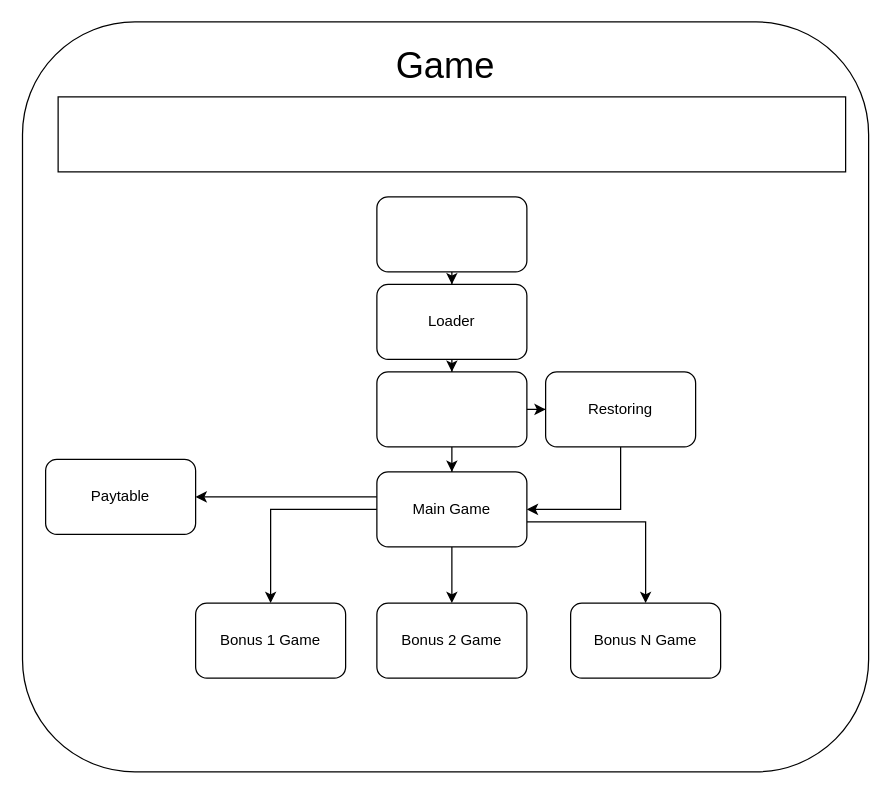
Some shapes in this 890 by 794 pixel diagram are drawn without their labels. Here are the shapes that lost their labels. From the top down, the centre of each, then its label:
At [451,134]: "Scenes".
At [451,234]: "Preloader".
At [451,409]: "Intro".
